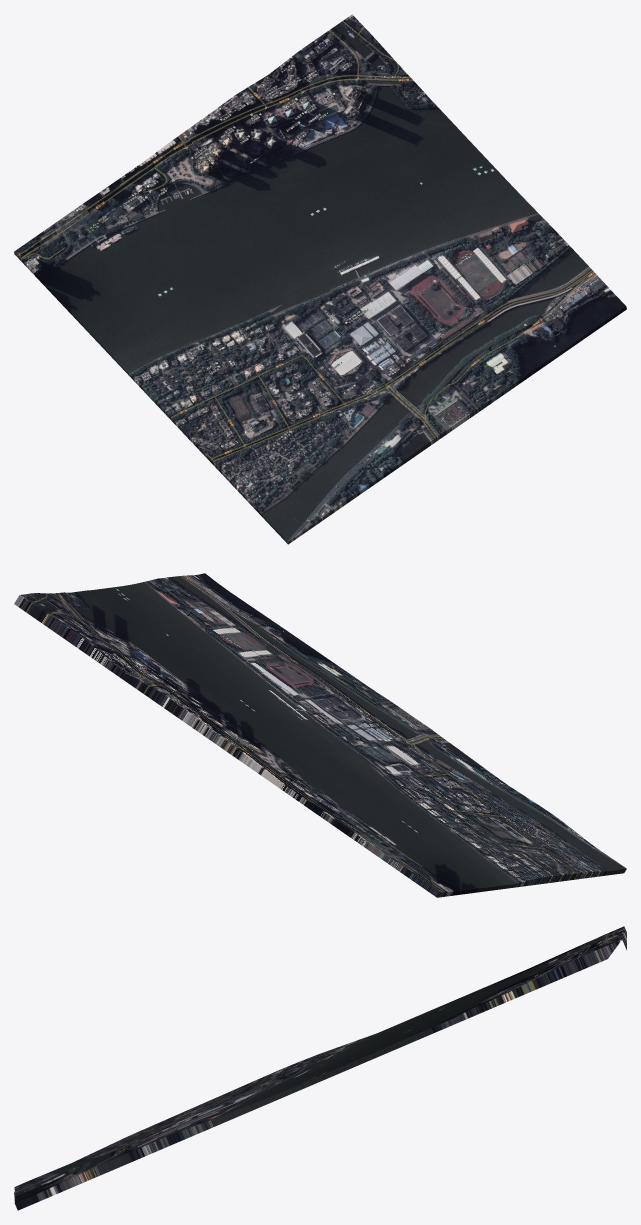
3 renders of one model, top to bottom at view 1: azimuth 30°, elevation 25°; view 2: azimuth 150°, elevation 25°; view 3: azimuth 270°, elevation 25°, orthographic. The views are drawn at different scales.
Parts seen in each view (by area): view 1: 1_6_8; view 2: 1_6_8; view 3: 1_6_8.
Boxes of the visible parts, x1,y1,x2,y2 form: 1_6_8: (14,14,626,544); 1_6_8: (14,573,626,897); 1_6_8: (14,926,626,1210).
Size of the model in its own units: 1227 by 903 by 1126.
1 material, 1 textured.
